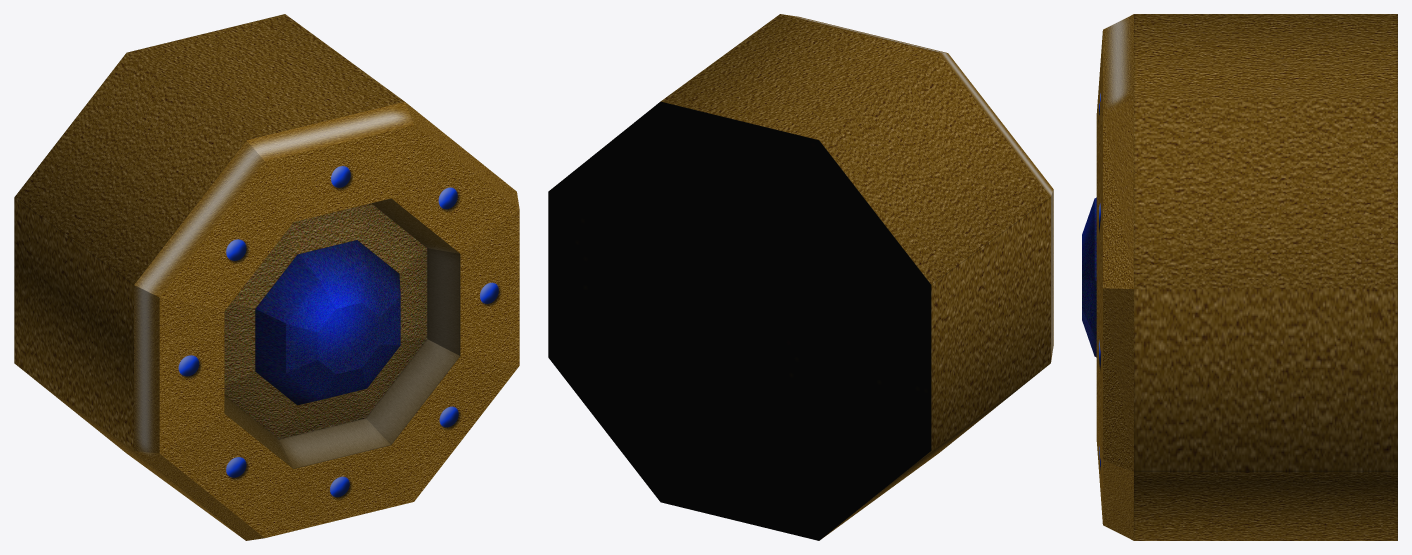
The model's file is octogon.FBX.
3 views of the same model, side by side, from view 1: azimuth 30°, elevation 25°; view 2: azimuth 150°, elevation 25°; view 3: azimuth 270°, elevation 25° (orthographic). The views are drawn at different scales.
Visible parts, largest first — view 1: octogon; view 2: octogon; view 3: octogon.
Part boxes in pixels (<box>): octogon: <box>14,14,519,540</box>; octogon: <box>548,14,1053,540</box>; octogon: <box>1082,14,1397,540</box>.
Bounding box in the file's own units: 72.75 × 72.75 × 47.14.
